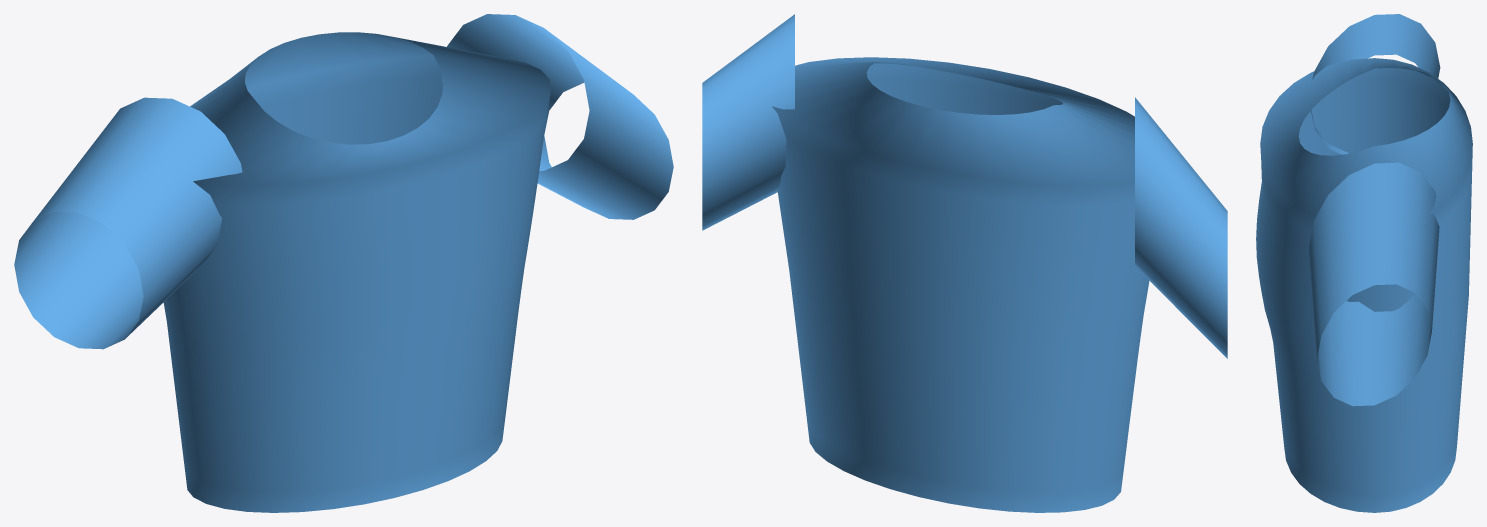
The model's file is GARMENT_top_basic_tshirt.glb.
3 renders of one model, left to right at view 1: azimuth 30°, elevation 25°; view 2: azimuth 150°, elevation 25°; view 3: azimuth 270°, elevation 25°, orthographic. The views are drawn at different scales.
Visible parts, largest first — view 1: GARMENT_top_basic_tshirt; view 2: GARMENT_top_basic_tshirt; view 3: GARMENT_top_basic_tshirt.
Part boxes in pixels (bbox=[...]): GARMENT_top_basic_tshirt: bbox=[14, 14, 673, 512]; GARMENT_top_basic_tshirt: bbox=[702, 14, 1227, 512]; GARMENT_top_basic_tshirt: bbox=[1256, 14, 1472, 512].
Size of the model in its own units: 7.63 by 4.95 by 2.71.
